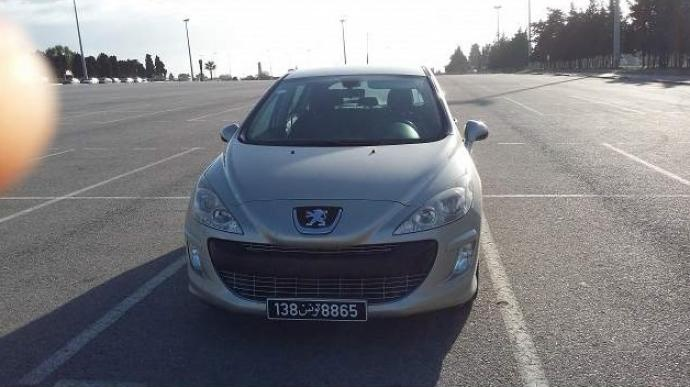LP: (265, 298, 369, 324)
